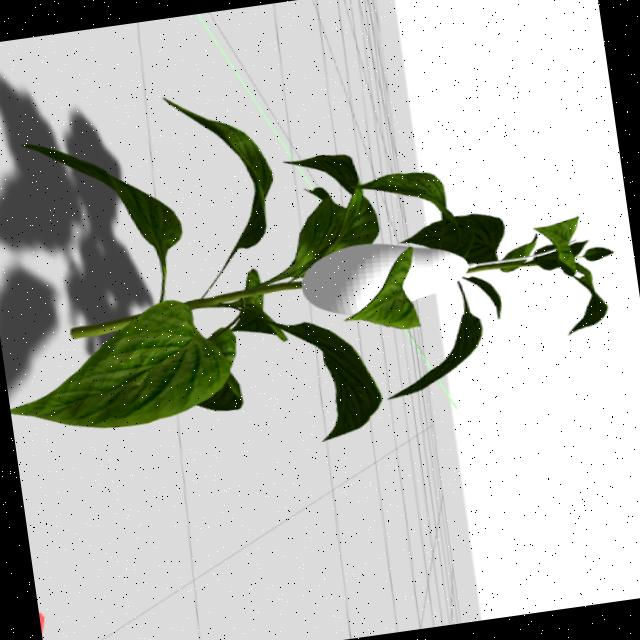leaf: (10, 299, 241, 427), (20, 145, 182, 301), (343, 247, 420, 329)
occludedfruit: (300, 244, 408, 317), (400, 247, 467, 302)
peduncle: (467, 251, 554, 268)
